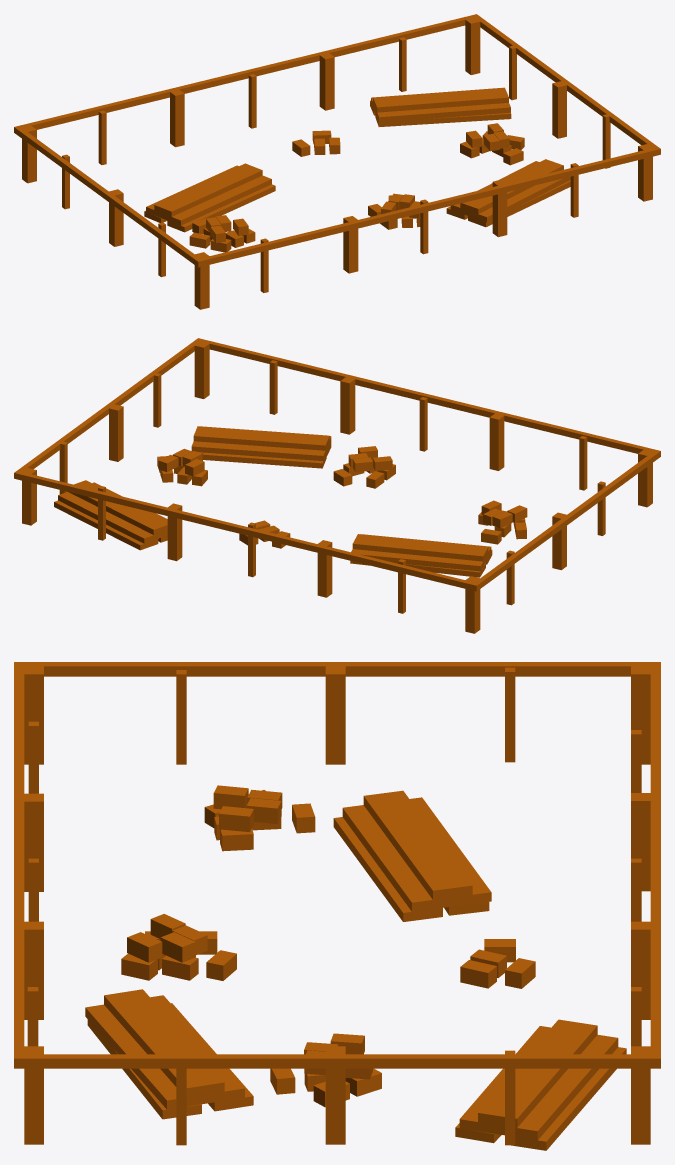
Rendered from Kaserna_build.fbx.
3 renders of one model, top to bottom at view 1: azimuth 30°, elevation 25°; view 2: azimuth 150°, elevation 25°; view 3: azimuth 270°, elevation 25°, orthographic. The views are drawn at different scales.
Parts seen in each view (by area): view 1: Cube, Cube.017, Cube.052, Cube.019, Cube.068, Cube.018, Cube.051, Cube.066, Cube.057, Cube.056, Cube.006, Cube.002 (+13 smaller); view 2: Cube.017, Cube, Cube.057, Cube.068, Cube.019, Cube.018, Cube.055, Cube.052, Cube.067, Cube.050, Cube.053, Cube.005 (+15 smaller); view 3: Cube.018, Cube.019, Cube.068, Cube.057, Cube, Cube.017, Cube.052, Cube.066, Cube.050, Cube.056, Cube.004, Cube.064 (+32 smaller).
Part boxes in pixels (x1=…): Cube: x1=195, y1=148, x2=655, y2=267; Cube.017: x1=14, y1=15, x2=474, y2=134; Cube.052: x1=373, y1=87, x2=508, y2=112; Cube.019: x1=17, y1=128, x2=199, y2=264; Cube.068: x1=154, y1=163, x2=262, y2=216; Cube.018: x1=472, y1=14, x2=660, y2=155; Cube.051: x1=375, y1=103, x2=510, y2=122; Cube.066: x1=163, y1=175, x2=271, y2=225; Cube.057: x1=460, y1=159, x2=563, y2=214; Cube.056: x1=469, y1=177, x2=570, y2=222; Cube.006: x1=465, y1=17, x2=480, y2=74; Cube.002: x1=319, y1=53, x2=334, y2=110; Cube.017: x1=19, y1=472, x2=479, y2=591; Cube: x1=200, y1=339, x2=660, y2=458; Cube.057: x1=193, y1=426, x2=329, y2=450; Cube.068: x1=352, y1=534, x2=488, y2=561; Cube.019: x1=475, y1=452, x2=657, y2=588; Cube.018: x1=14, y1=338, x2=202, y2=479; Cube.055: x1=191, y1=441, x2=327, y2=461; Cube.052: x1=68, y1=480, x2=167, y2=534; Cube.067: x1=351, y1=549, x2=485, y2=571; Cube.050: x1=58, y1=492, x2=162, y2=543; Cube.053: x1=202, y1=452, x2=326, y2=468; Cube.005: x1=194, y1=341, x2=209, y2=398; Cube.018: x1=14, y1=1054, x2=660, y2=1068; Cube.019: x1=24, y1=662, x2=650, y2=676; Cube.068: x1=363, y1=790, x2=472, y2=899; Cube.057: x1=104, y1=989, x2=224, y2=1097; Cube: x1=14, y1=662, x2=24, y2=1054; Cube.017: x1=650, y1=662, x2=660, y2=1054; Cube.052: x1=478, y1=1019, x2=597, y2=1127; Cube.066: x1=342, y1=805, x2=451, y2=911; Cube.050: x1=498, y1=1034, x2=618, y2=1140; Cube.056: x1=85, y1=1004, x2=205, y2=1109; Cube.004: x1=325, y1=666, x2=345, y2=764; Cube.064: x1=333, y1=817, x2=442, y2=921.
Size of the model in its own units: 3114 by 362 by 2147.
